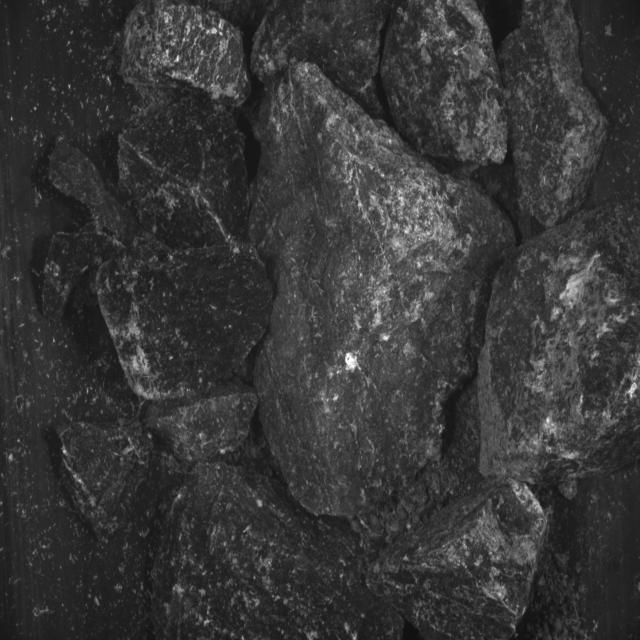Stones: (251, 64, 515, 517), (480, 205, 640, 482), (154, 463, 404, 640), (367, 479, 549, 640), (97, 243, 274, 401), (500, 1, 610, 229), (381, 1, 509, 167), (119, 96, 250, 249), (252, 1, 391, 118), (121, 1, 251, 107), (57, 422, 154, 539), (50, 137, 140, 246), (146, 384, 259, 463), (44, 224, 124, 322)
